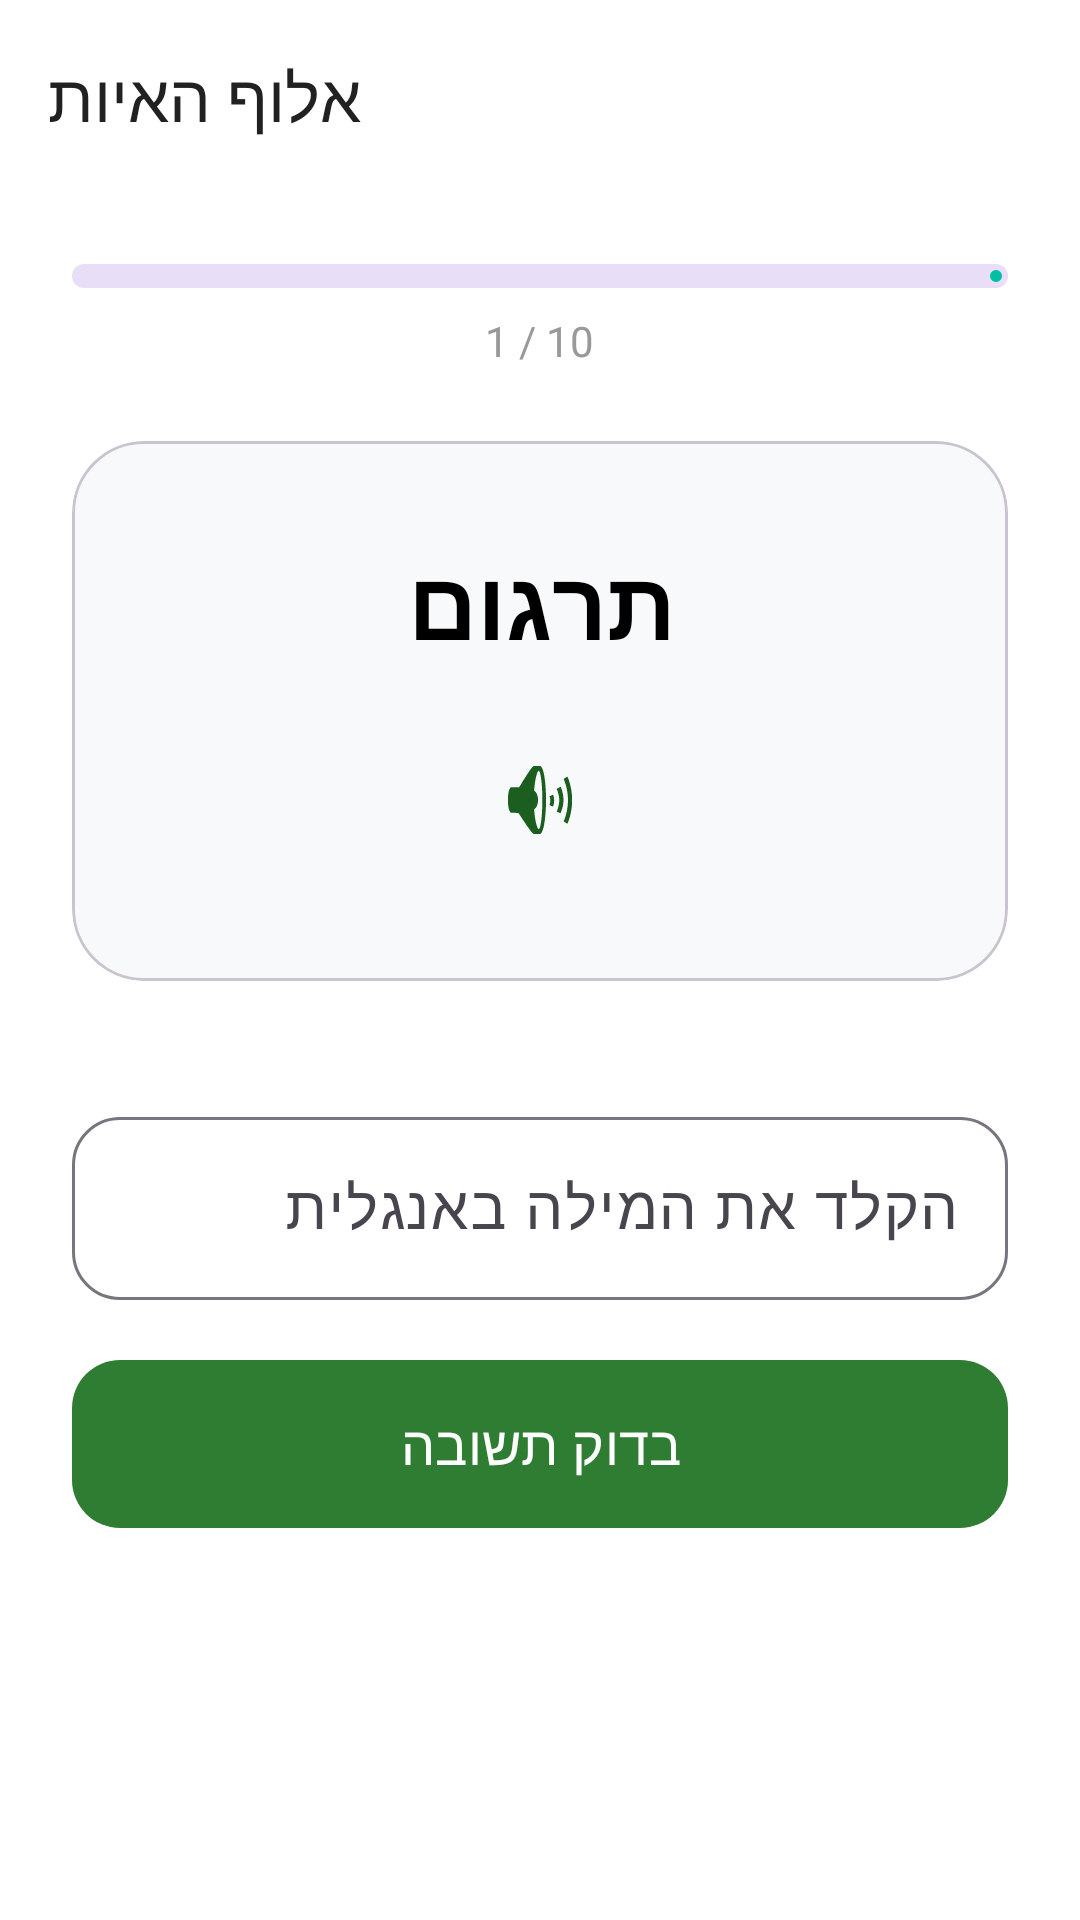

Screen size 1080 × 1920. Icon name, then its box in pixels as rect(x1, y1, x2, y2):
lock silent mode off: rect(508, 766, 572, 834)
